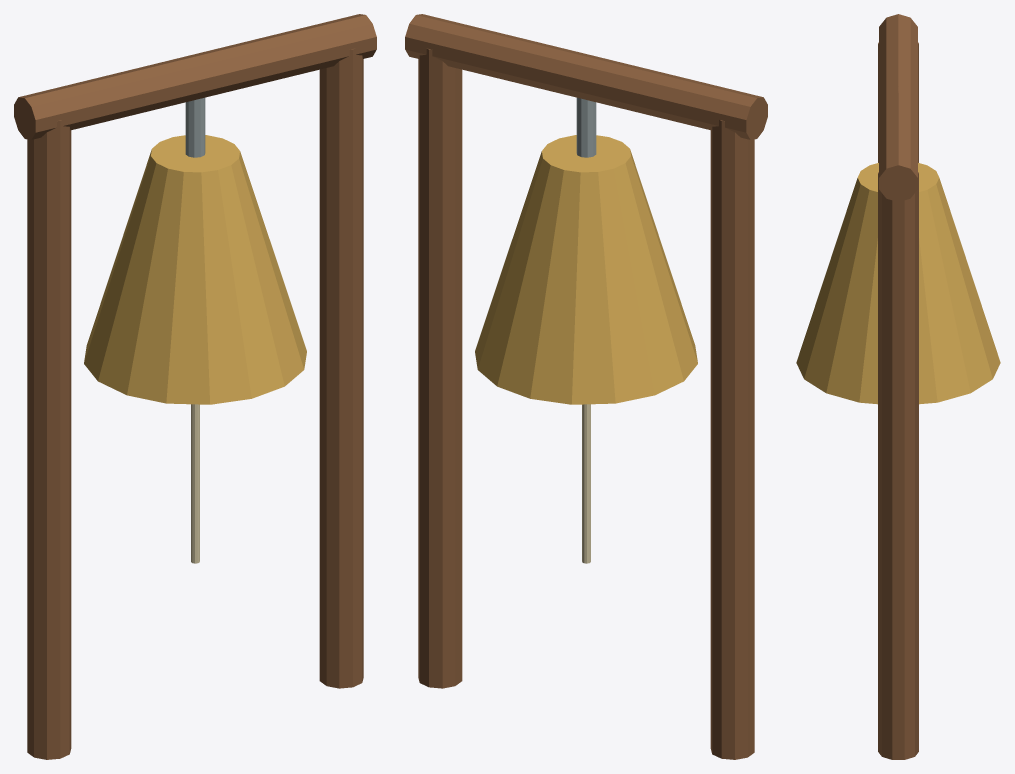
File: Bell_Stand_A.glb
3 views of the same model, side by side, from view 1: azimuth 30°, elevation 25°; view 2: azimuth 150°, elevation 25°; view 3: azimuth 270°, elevation 25° (orthographic). The views are drawn at different scales.
Parts seen in each view (by area): view 1: Bell_Stand_A; view 2: Bell_Stand_A; view 3: Bell_Stand_A.
Boxes of the visible parts, <box> form: Bell_Stand_A: <box>14,14,376,759</box>; Bell_Stand_A: <box>405,14,767,759</box>; Bell_Stand_A: <box>796,14,1000,759</box>.
Size of the model in its own units: 0.7 by 1.29 by 0.4.
